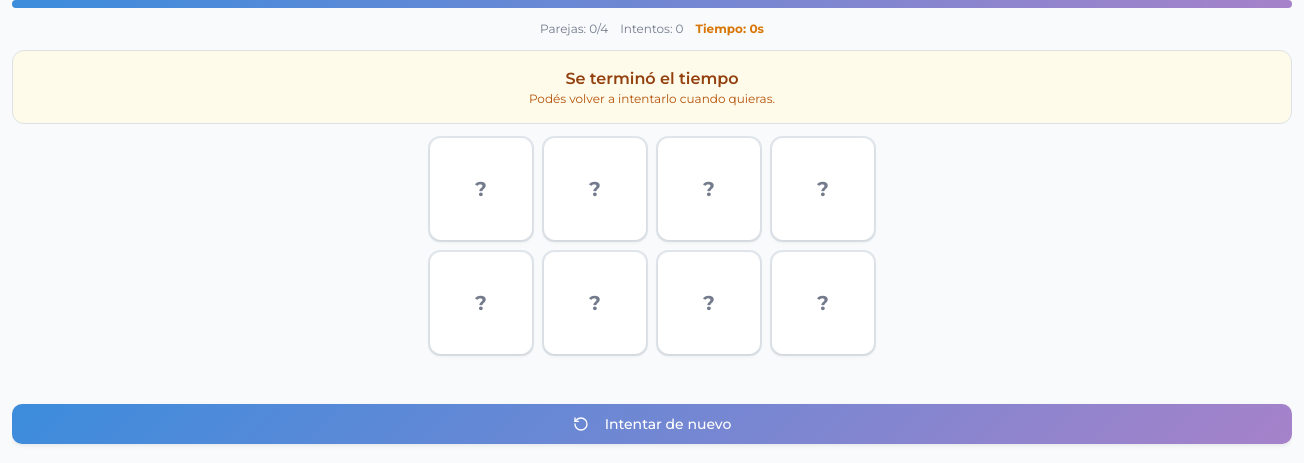
Test: Memory interaction › expires a timed game and supports a clean retry
This screenshot has width=1304, height=463.
Expected: the text "Se terminó el tiempo" is shown, [565,69,739,88]
Step 1. Click the button "Intentar de nuevo" → (652,424), box [12,404,1292,444]
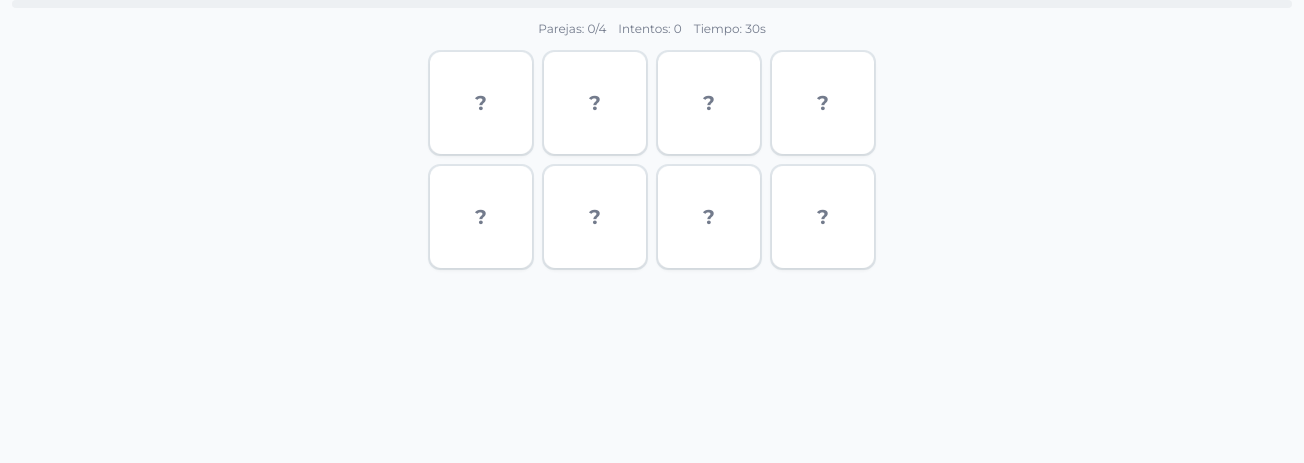
Expected: the text "Tiempo: 30s" is shown, [694,20,766,38]
Expected: the text "Se termin" is gone
